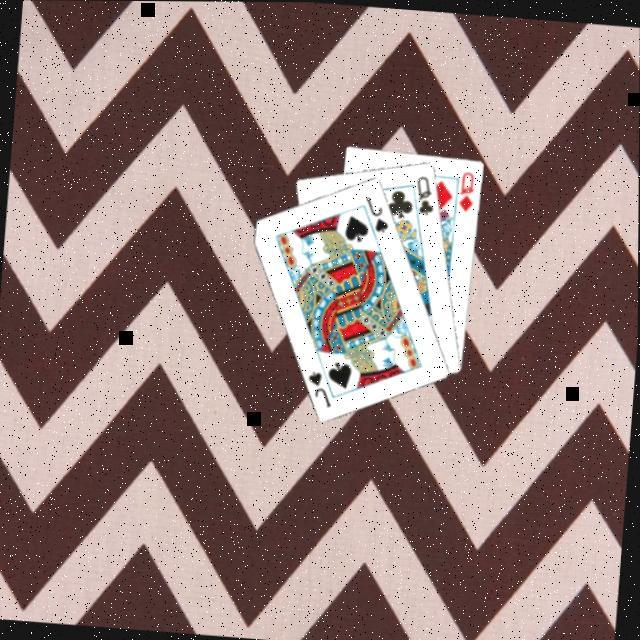JS: (304, 364, 338, 408), (361, 190, 395, 233)
QC: (412, 169, 440, 216)
QD: (456, 165, 479, 211)
